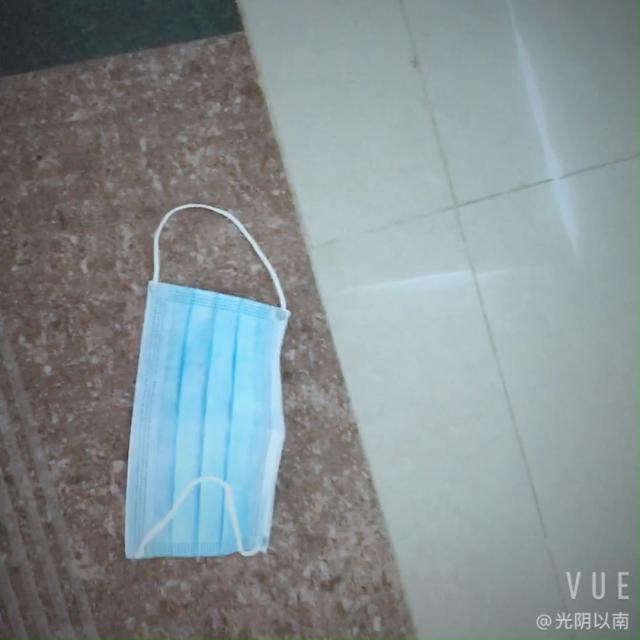face mask: (110, 270, 304, 576)
